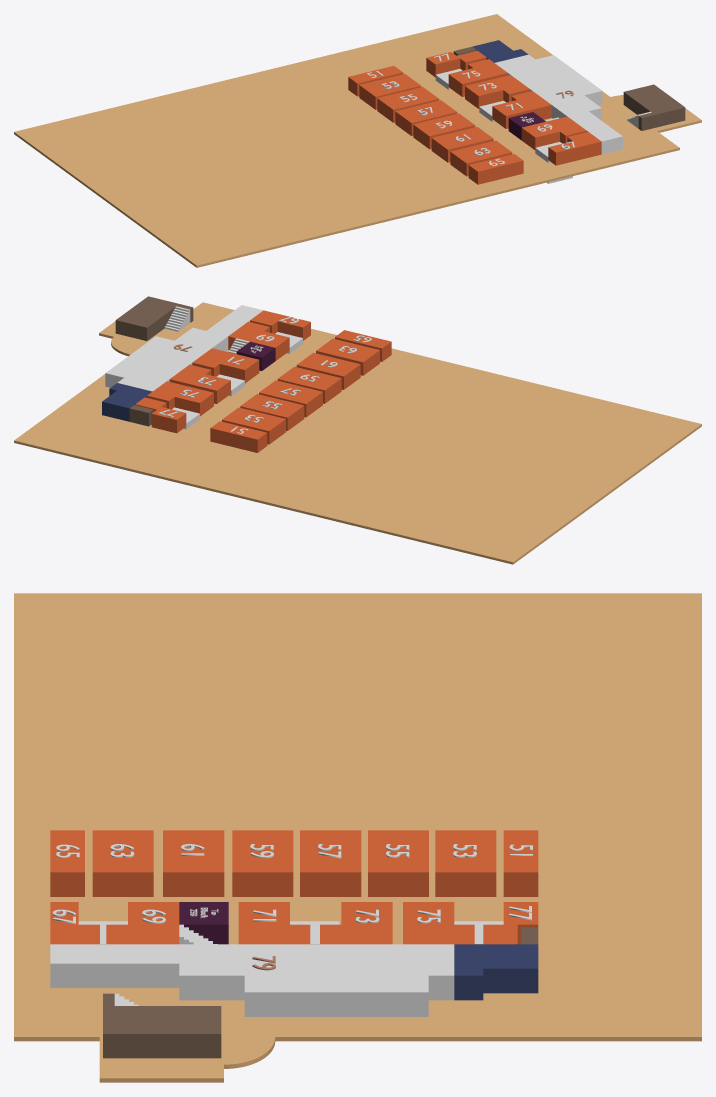
Rendered from floor1.glb.
3 views of the same model, one above another, from view 1: azimuth 30°, elevation 25°; view 2: azimuth 150°, elevation 25°; view 3: azimuth 270°, elevation 25° (orthographic). The views are drawn at different scales.
Parts seen in each view (by area): view 1: Base, #01-79, 79 Brown block, #01-73, #01-69, #01-71, #01-67, #01-65, #01-61, #01-75, #01-59, #01-63 (+7 smaller); view 2: Base, #01-79, 79 Brown block, #01-71, #01-75, #01-51, #01-63, #01-61, #01-73, 77 blue block, #01-53, #01-57 (+8 smaller); view 3: Base, #01-79, 79 Brown block, 77 blue block, #01-61, #01-57, #01-53, #01-59, #01-63, #01-55, #01-71, #01-73 (+7 smaller).
Part boxes in pixels (x1,y1,x2,y2): Base: [14, 14, 701, 267]; #01-79: [495, 54, 622, 154]; 79 Brown block: [623, 84, 685, 130]; #01-73: [465, 75, 529, 108]; #01-69: [521, 116, 586, 149]; #01-71: [492, 91, 551, 128]; #01-67: [548, 132, 601, 165]; #01-65: [468, 154, 523, 184]; #01-61: [431, 127, 493, 162]; #01-75: [448, 59, 507, 96]; #01-59: [413, 113, 475, 149]; #01-63: [450, 140, 512, 176]; Base: [14, 302, 701, 564]; #01-79: [105, 305, 262, 391]; 79 Brown block: [115, 296, 193, 340]; #01-71: [192, 348, 259, 383]; #01-75: [147, 381, 213, 416]; #01-51: [210, 421, 267, 452]; #01-63: [316, 338, 379, 375]; #01-61: [296, 352, 360, 389]; #01-73: [169, 364, 230, 403]; 77 blue block: [102, 383, 152, 421]; #01-53: [222, 407, 285, 444]; #01-57: [259, 380, 322, 417]; Base: [14, 593, 701, 1082]; #01-79: [50, 944, 454, 1016]; 79 Brown block: [103, 993, 221, 1058]; 77 blue block: [454, 944, 538, 1000]; #01-61: [163, 830, 224, 896]; #01-57: [300, 830, 361, 896]; #01-53: [435, 830, 496, 896]; #01-59: [232, 830, 293, 896]; #01-63: [92, 830, 153, 896]; #01-55: [368, 830, 428, 896]; #01-71: [238, 902, 310, 944]; #01-73: [320, 902, 392, 944].
Bounding box in the file's own units: 33.91 × 2.3 × 20.34.
